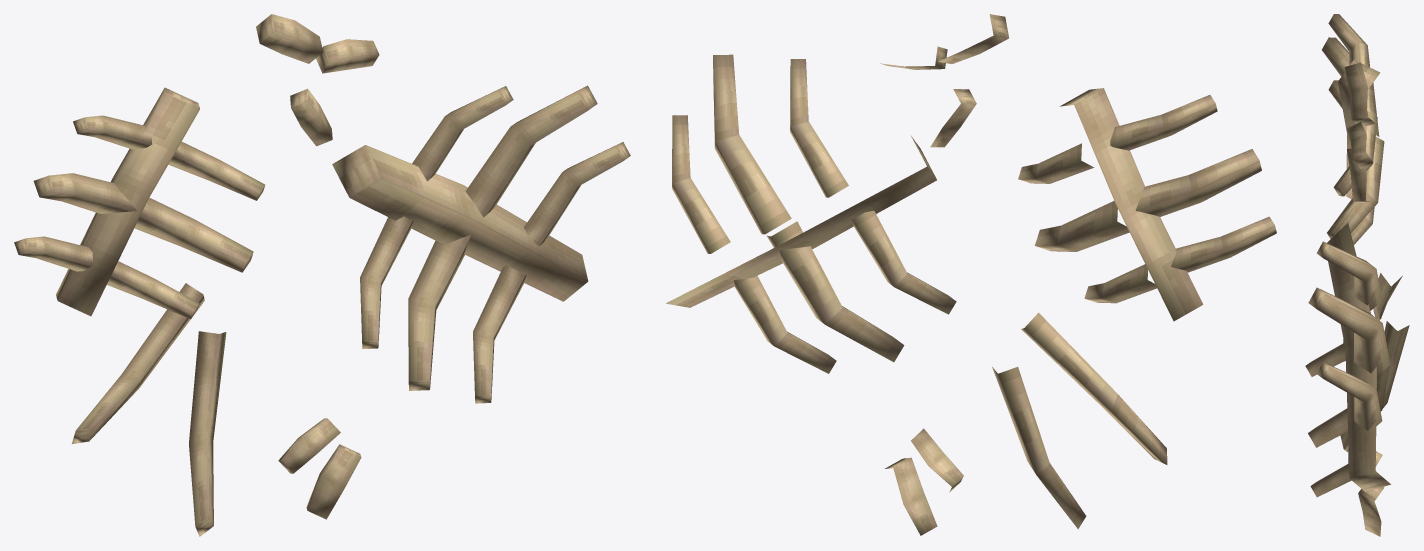
3 views of the same model, side by side, from view 1: azimuth 30°, elevation 25°; view 2: azimuth 150°, elevation 25°; view 3: azimuth 270°, elevation 25° (orthographic). The views are drawn at different scales.
Parts seen in each view (by area): view 1: model_Object50; view 2: model_Object50; view 3: model_Object50.
Boxes of the visible parts, left/top/right/bottom form: model_Object50: left=14, top=14, right=630, bottom=536; model_Object50: left=666, top=14, right=1276, bottom=535; model_Object50: left=1305, top=14, right=1409, bottom=536.
Bounding box in the file's own units: 1.25 × 1.03 × 0.2187.
1 material, 1 textured.
